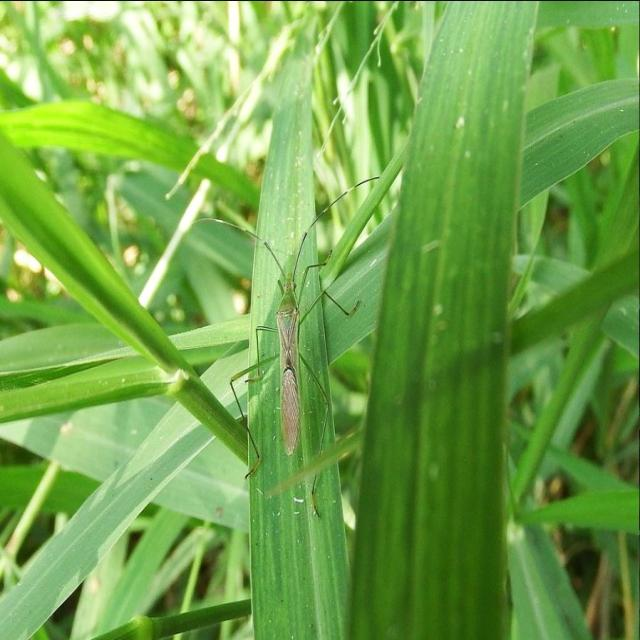walang sangit pada tanaman padi: (190, 174, 380, 484)
